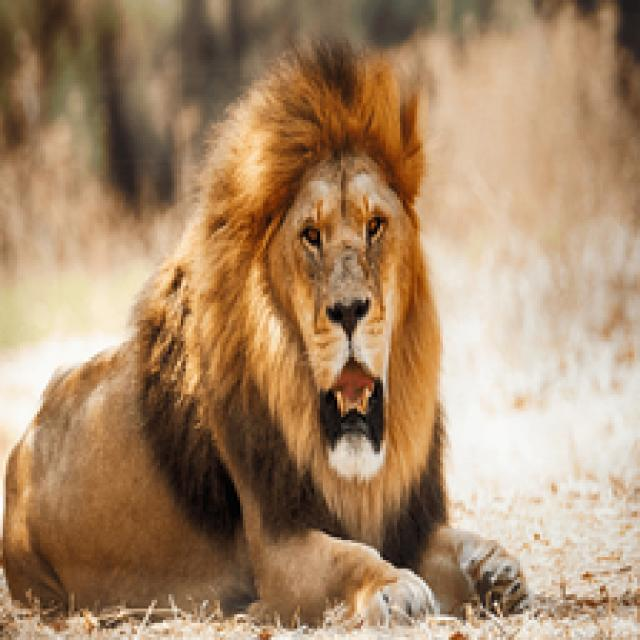lion: (1, 29, 557, 598)
